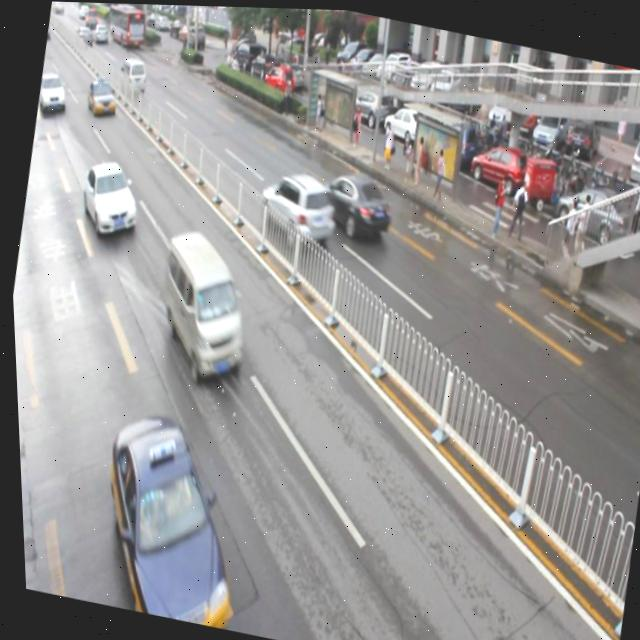car: (79, 403, 254, 628), (253, 163, 338, 249), (310, 162, 396, 245), (73, 154, 145, 240)
truck: (143, 223, 259, 385)
